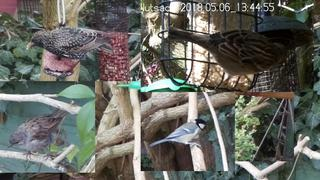dunnock: (7, 108, 68, 162)
great tit: (149, 119, 208, 148)
sparrow: (167, 27, 287, 82)
starling: (27, 27, 114, 60)
